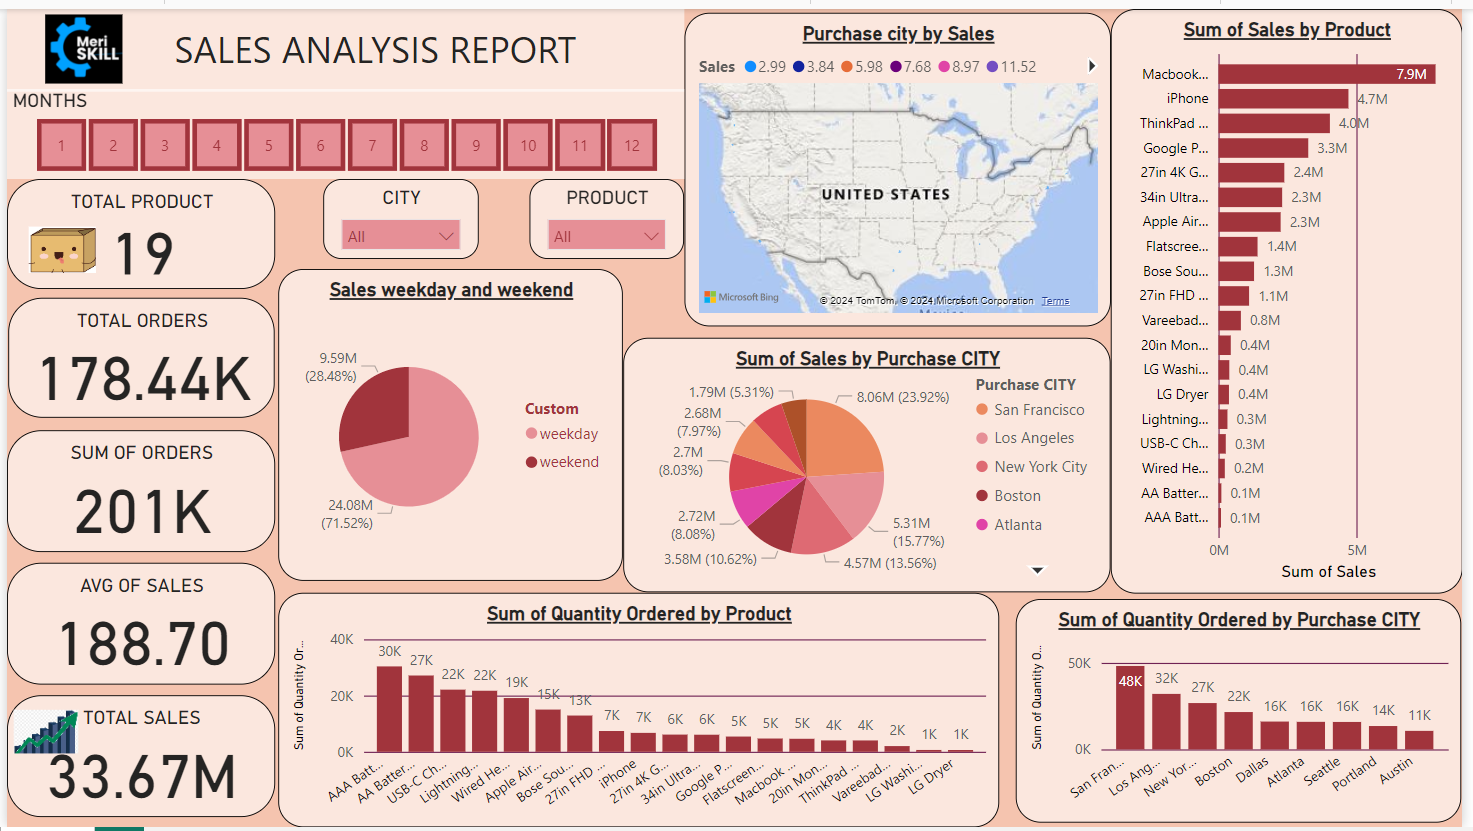

Layout of this report page (visuals, bound fields, positions):
{"tool":"powerbi","page":{"name":"Page 1","canvas":[1280,720],"ordinal":0},"visuals":[{"type":"card","title":"TOTAL PRODUCT","fields":{"Values":["Count(Sales Data.Product)"]},"box":[0,149.8,236.1,97.1],"z":0},{"type":"columnChart","fields":{"Category":["Sales Data.Product"],"Y":["Sum(Sales Data.Quantity Ordered)"]},"box":[238.5,514.2,634,206.1],"z":1000},{"type":"textbox","box":[0,0,595.7,73.1],"z":2000},{"type":"card","title":"TOTAL ORDERS","fields":{"Values":["CountNonNull(Sales Data.Order ID)"]},"box":[1.2,253.6,234.5,106],"z":3000},{"type":"card","title":"SUM OF ORDERS","fields":{"Values":["Sum(Sales Data.Quantity Ordered)"]},"box":[0,370.2,235.7,107.1],"z":4000},{"type":"card","title":"AVG OF SALES","fields":{"Values":["Avg(Sales Data.Sales)"]},"box":[0,486.9,235.7,107.1],"z":5000},{"type":"card","title":"TOTAL SALES","fields":{"Values":["Sum(Sales Data.Sales)"]},"box":[0,603.6,235.7,107.1],"z":6000},{"type":"slicer","title":"CITY","fields":{"Values":["Sales Data.Purchase CITY"]},"box":[278.1,149.8,136.6,70.7],"z":8000},{"type":"columnChart","fields":{"Y":["Sum(Sales Data.Quantity Ordered)"],"Category":["Sales Data.Purchase CITY"]},"box":[888.1,519,391.9,196.6],"z":10000},{"type":"barChart","fields":{"Category":["Sales Data.Product"],"Y":["Sum(Sales Data.Sales)"]},"box":[970.8,0,309.2,514.2],"z":11000},{"type":"pieChart","fields":{"Y":["Sum(Sales Data.Sales)"],"Category":["Sales Data.Purchase CITY"]},"box":[541.7,288.8,429.1,224.1],"z":12000},{"type":"filledMap","title":"Purchase city by Sales","fields":{"Category":["Sales Data.Purchase CITY"],"Series":["Sales Data.Sales"]},"box":[595.7,3.6,375.1,275.7],"z":13000},{"type":"slicer","title":"PRODUCT","fields":{"Values":["Sales Data.Product"]},"box":[459.5,150,135.7,70.2],"z":13001},{"type":"slicer","title":"MONTHS","fields":{"Values":["Sales Data.Month"]},"box":[0,70.7,595.7,79.1],"z":13002},{"type":"pieChart","title":"Sales weekday and weekend","fields":{"Y":["Sum(Sales Data.Sales)"],"Category":["Sales Data.Custom"]},"box":[238.5,228.9,303.2,274.5],"z":13003},{"type":"image","box":[0,0,135.7,70.2],"z":13004},{"type":"image","box":[14.3,177.4,69,70.2],"z":13005},{"type":"image","box":[1.2,603.6,66.7,64.3],"z":13006}]}

Visuals, with their boxes in screenshot pixels (x1, y1, x2, y2), scaled from the page's 1280x720 canvas onto the 1473x831 screenshot:
"TOTAL PRODUCT" card: box(0, 173, 272, 285)
columnChart - Sales Data.Product x Sum(Sales Data.Quantity Ordered): box(274, 593, 1004, 830)
textbox: box(0, 0, 686, 84)
"TOTAL ORDERS" card: box(1, 293, 271, 415)
"SUM OF ORDERS" card: box(0, 427, 271, 551)
"AVG OF SALES" card: box(0, 562, 271, 686)
"TOTAL SALES" card: box(0, 697, 271, 820)
"CITY" slicer: box(320, 173, 477, 254)
columnChart - Sum(Sales Data.Quantity Ordered) x Sales Data.Purchase CITY: box(1022, 599, 1472, 826)
barChart - Sales Data.Product x Sum(Sales Data.Sales): box(1117, 0, 1472, 593)
pieChart - Sum(Sales Data.Sales) x Sales Data.Purchase CITY: box(623, 333, 1117, 592)
"Purchase city by Sales" filledMap: box(686, 4, 1117, 322)
"PRODUCT" slicer: box(529, 173, 685, 254)
"MONTHS" slicer: box(0, 82, 686, 173)
"Sales weekday and weekend" pieChart: box(274, 264, 623, 581)
image: box(0, 0, 156, 81)
image: box(16, 205, 96, 286)
image: box(1, 697, 78, 771)
